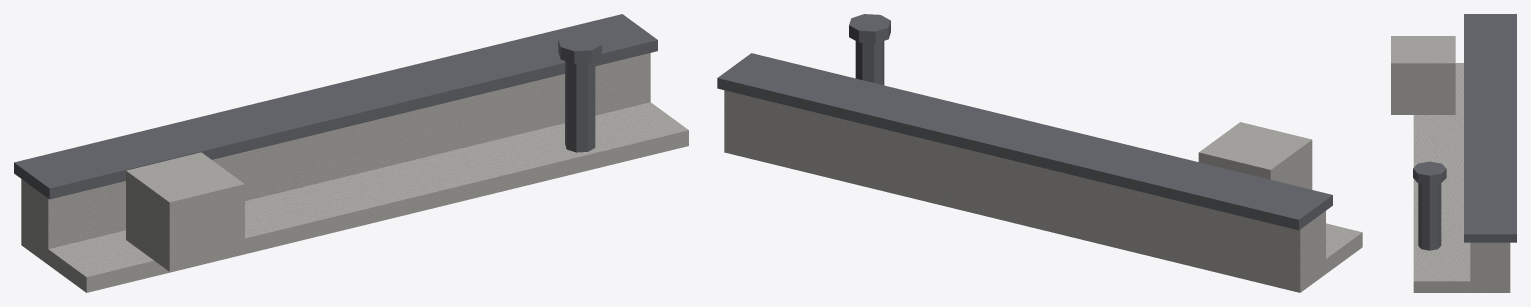
Rendered from alley_roof_cap_bay.glb.
3 renders of one model, left to right at view 1: azimuth 30°, elevation 25°; view 2: azimuth 150°, elevation 25°; view 3: azimuth 270°, elevation 25°, orthographic. The views are drawn at different scales.
Visible parts, largest first — view 1: alley-roof-cap-bay-concrete, alley-roof-cap-bay-charcoal; view 2: alley-roof-cap-bay-concrete, alley-roof-cap-bay-charcoal; view 3: alley-roof-cap-bay-concrete, alley-roof-cap-bay-charcoal.
Boxes of the visible parts, left/top/right/bottom form: alley-roof-cap-bay-concrete: left=21, top=53, right=688, bottom=292; alley-roof-cap-bay-charcoal: left=14, top=14, right=657, bottom=199; alley-roof-cap-bay-concrete: left=724, top=90, right=1362, bottom=292; alley-roof-cap-bay-charcoal: left=717, top=14, right=1332, bottom=230; alley-roof-cap-bay-concrete: left=1391, top=36, right=1510, bottom=292; alley-roof-cap-bay-charcoal: left=1413, top=14, right=1516, bottom=250.
Size of the model in its own units: 4.04 by 0.76 by 0.9749.
2 materials, 1 textured.
